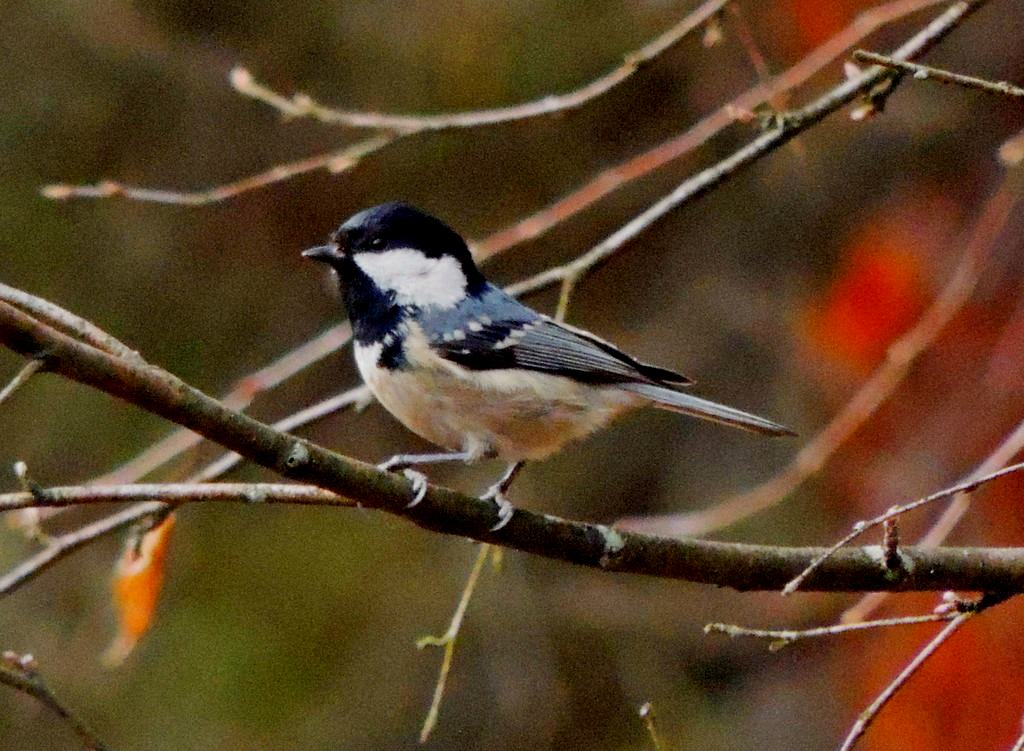PeriparusAter: (296, 200, 801, 546)
